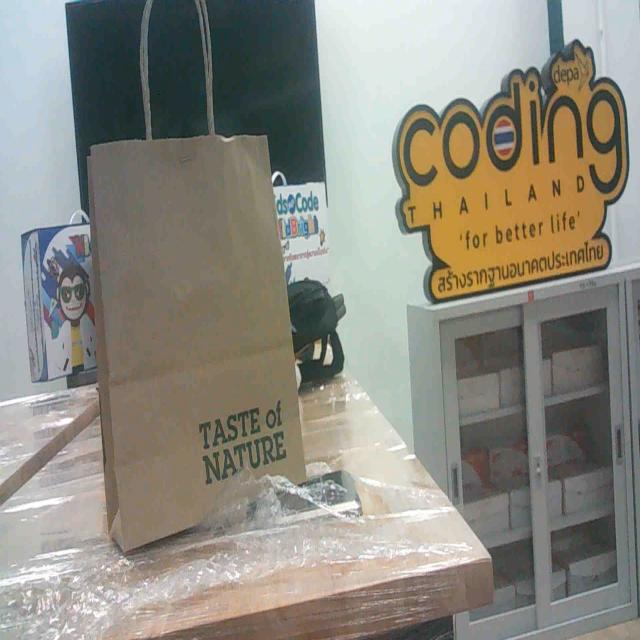bag: (77, 123, 314, 515)
